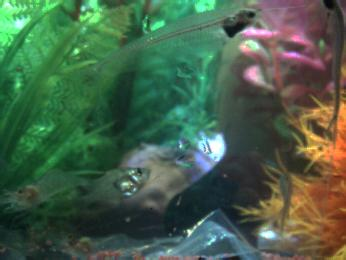X-ray fish: (81, 165, 152, 205), (274, 171, 293, 233)
glassfish: (75, 6, 260, 87), (321, 1, 346, 146)
siberian prawn: (1, 165, 89, 212), (43, 228, 158, 258)
